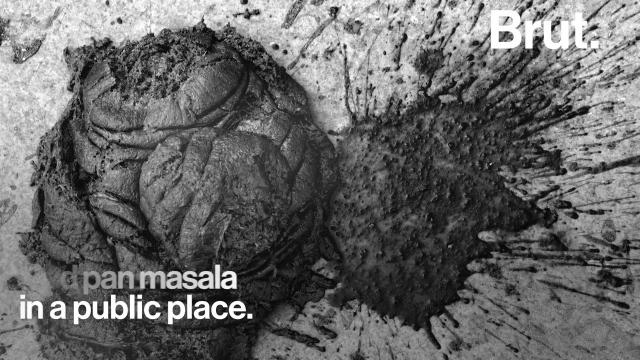spit: (339, 81, 513, 304)
